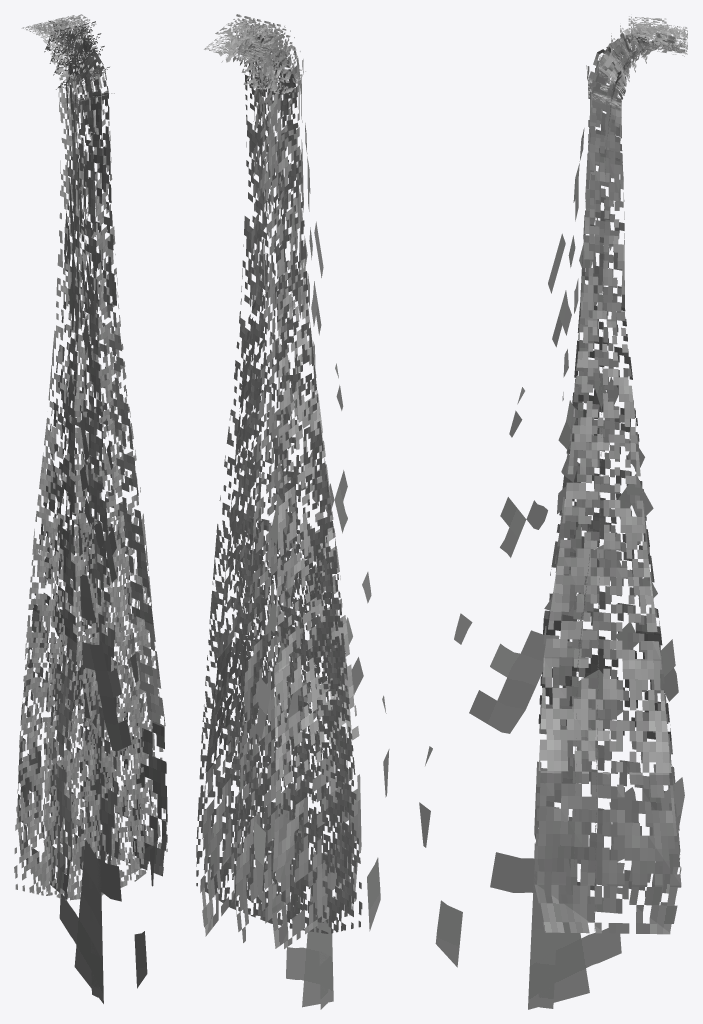
File: vanilla_effects_fxwaterfallthin4096x256-f2534c74.glb
3 renders of one model, left to right at view 1: azimuth 30°, elevation 25°; view 2: azimuth 150°, elevation 25°; view 3: azimuth 270°, elevation 25°, orthographic. The views are drawn at different scales.
Visible parts, largest first — view 1: es|fallsMesh04, es|fallsCrossMesh03, es|jet10:0; view 2: es|fallsMesh04, es|fallsCrossMesh03, es|jet10:0; view 3: es|fallsCrossMesh03, es|jet10:0, es|fallsMesh04.
Part boxes in pixels (x1,y1,x2,y2): es|fallsMesh04: (14, 14, 167, 900); es|fallsCrossMesh03: (17, 20, 167, 899); es|jet10:0: (30, 84, 154, 1003); es|fallsMesh04: (196, 14, 362, 933); es|fallsCrossMesh03: (200, 24, 361, 948); es|jet10:0: (253, 58, 389, 1009); es|fallsCrossMesh03: (534, 24, 685, 934); es|jet10:0: (419, 60, 684, 1009); es|fallsMesh04: (574, 16, 687, 930).
Bounding box in the file's own units: 11.32 × 66.08 × 16.28.
3 materials, 3 textured.
